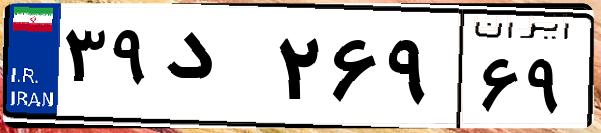2: (270, 28, 330, 110)
3: (57, 26, 110, 100)
6: (330, 28, 385, 110), (475, 38, 525, 113)
9: (385, 28, 445, 110), (525, 38, 570, 115), (110, 28, 158, 98)
د: (158, 20, 270, 120)
